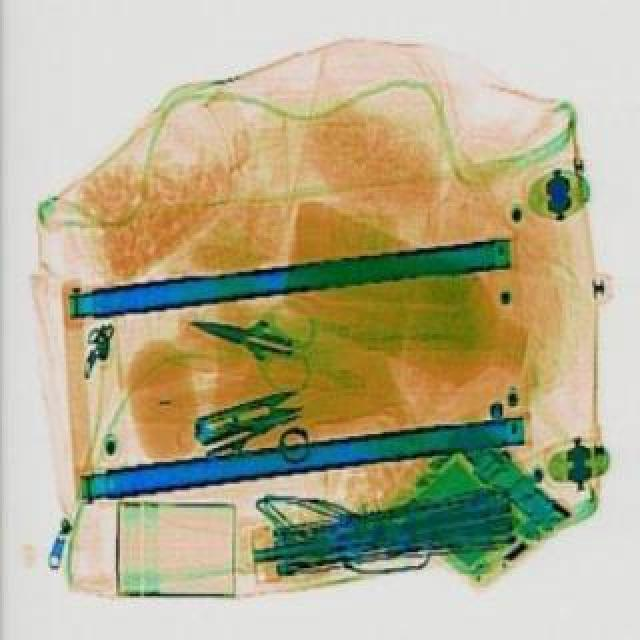knife: (184, 300, 296, 362), (194, 398, 304, 460)
pliers: (186, 380, 306, 444)
